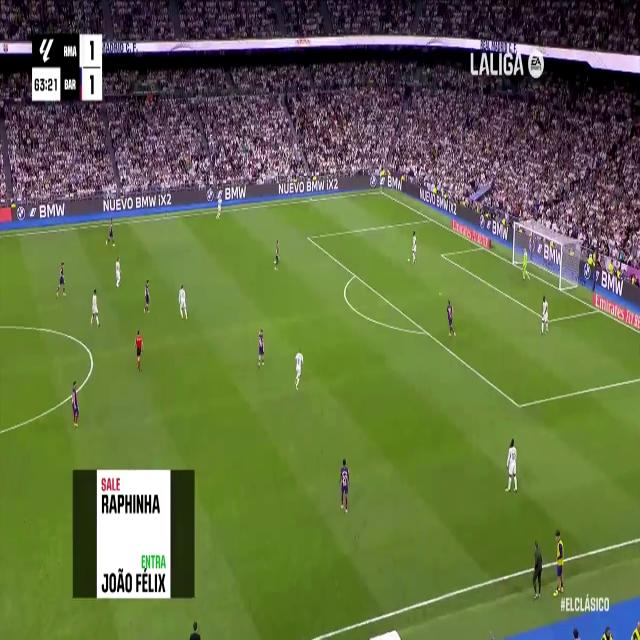bigarea_bottom_inner: (514, 395, 524, 416)
bigarea_top_inner: (305, 231, 311, 243)
bottom_arc_area_intersection: (421, 322, 430, 340)
corner: (377, 187, 384, 196)
smallarea_top_inner: (440, 250, 444, 258)
top_arc_area_intersection: (352, 268, 358, 280)
